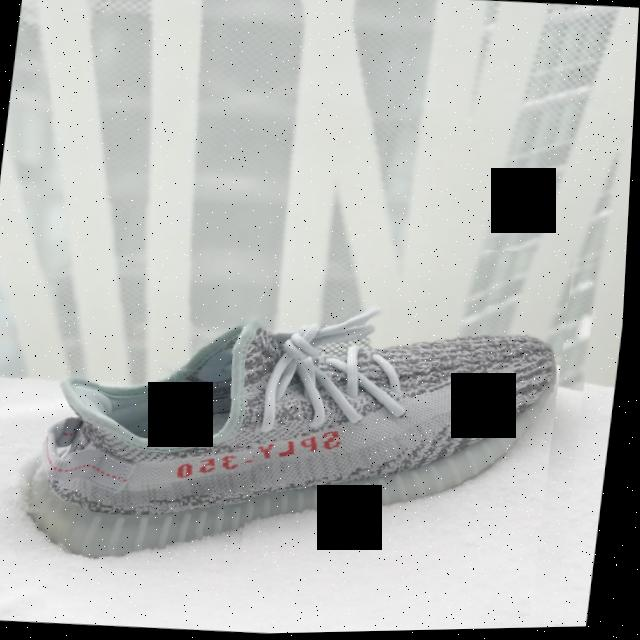shoe: (0, 216, 604, 602), (236, 236, 577, 635)
